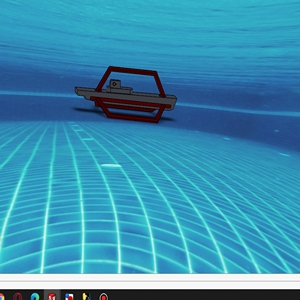submarine: (72, 64, 181, 123)
